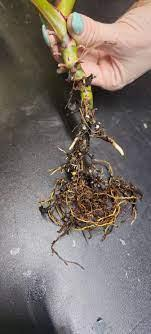root_rot: (25, 0, 144, 290)
